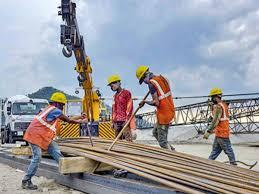safe person: (26, 88, 66, 186), (133, 66, 181, 146), (206, 85, 242, 165), (106, 74, 136, 139)
